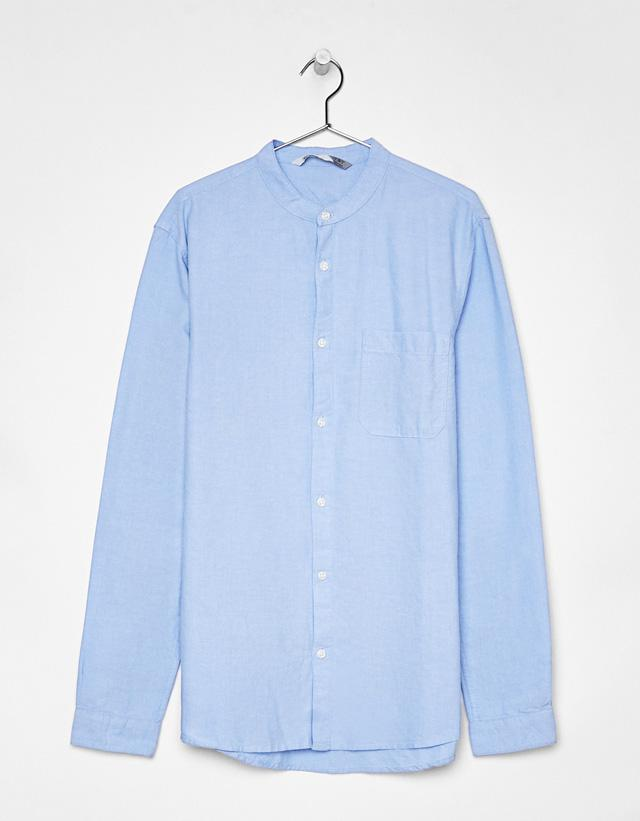teeshirt: (65, 142, 577, 786)
